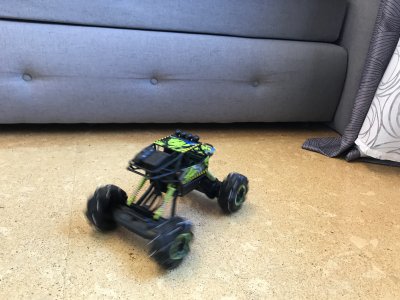remote control car: (82, 120, 253, 271)
